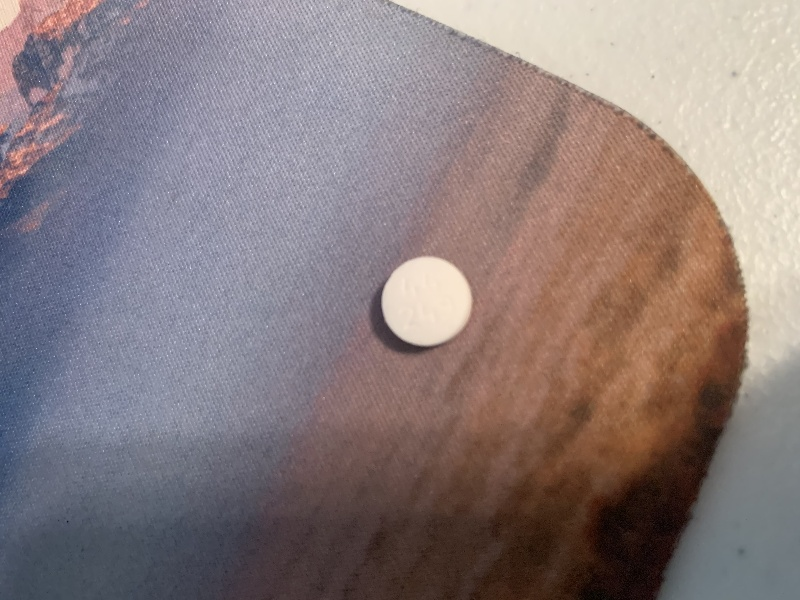Aspirin: (376, 252, 480, 353)
